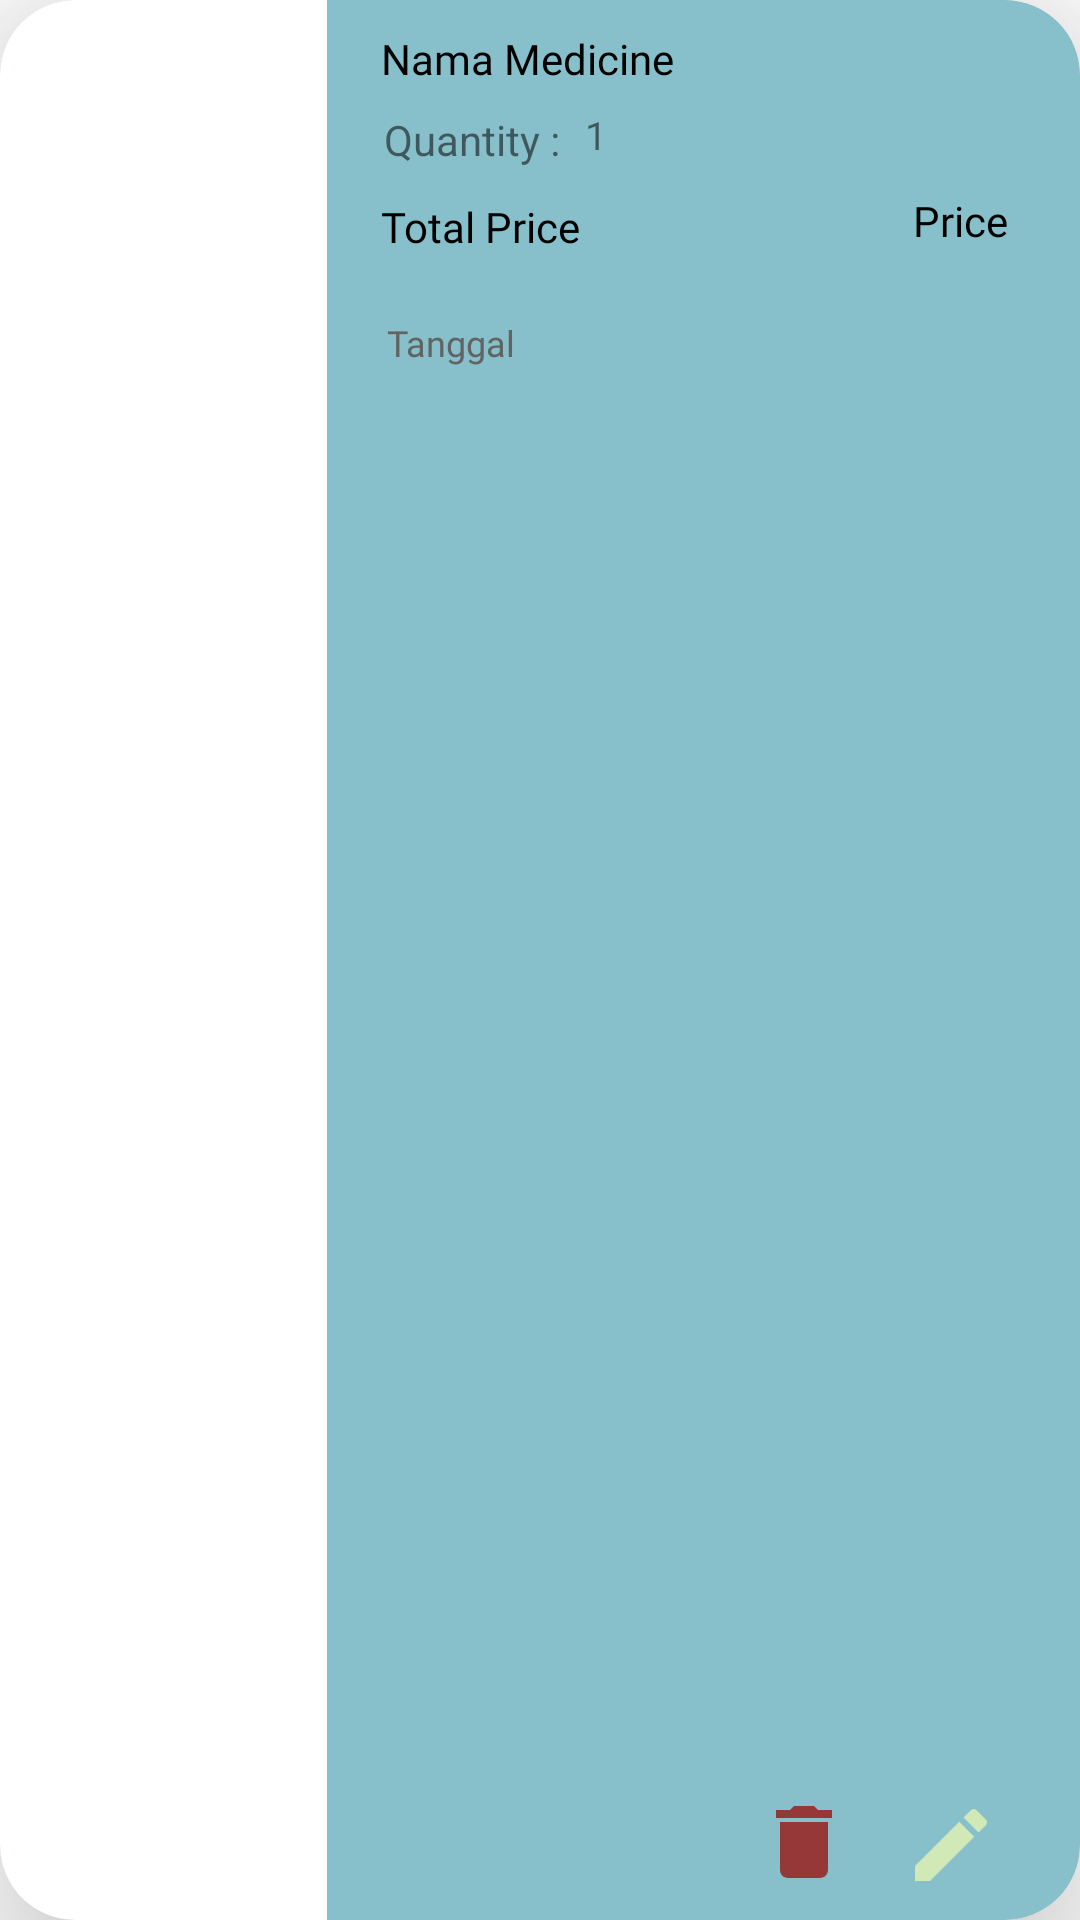

Named icons in this screenshot (1080x1920) and their centers, (x,y):
delete trans: (804,1842)
